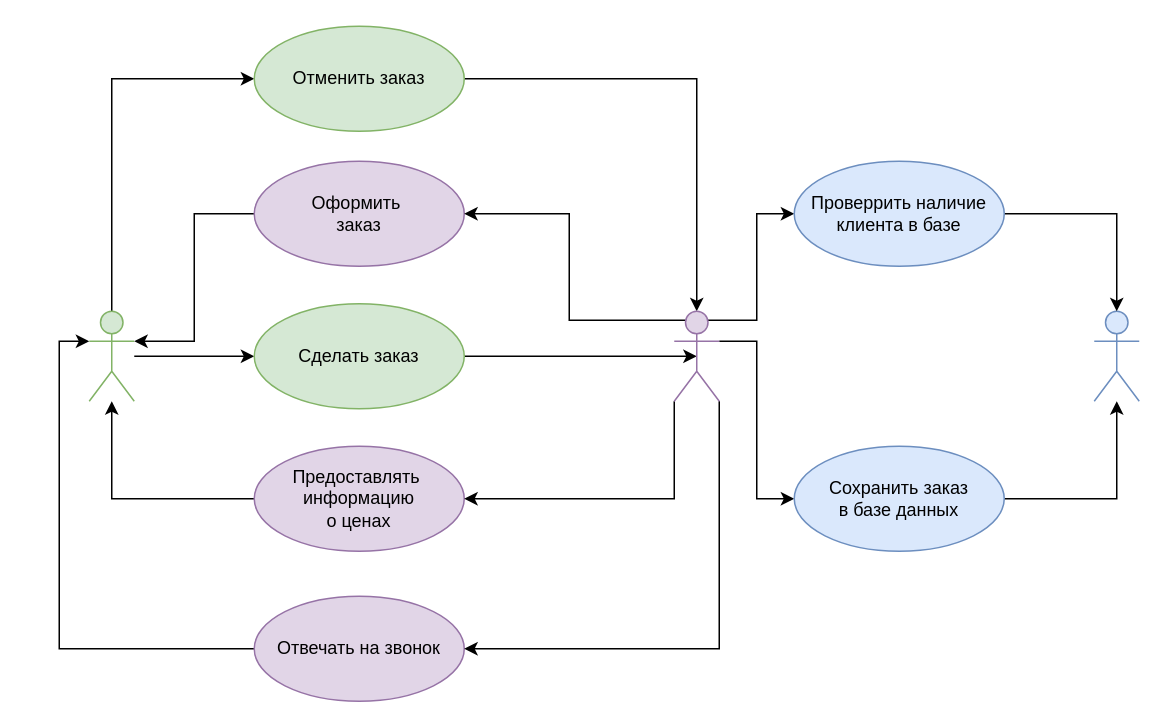
Image size: 1166x728. Some labels were removed from this diagram. Here are the shapes that lost their labels. From the top down, the box of each, then its label:
(88, 310, 134, 401): Клиент
(673, 310, 719, 401): Сотрудник
(1093, 310, 1139, 401): Информационная система
